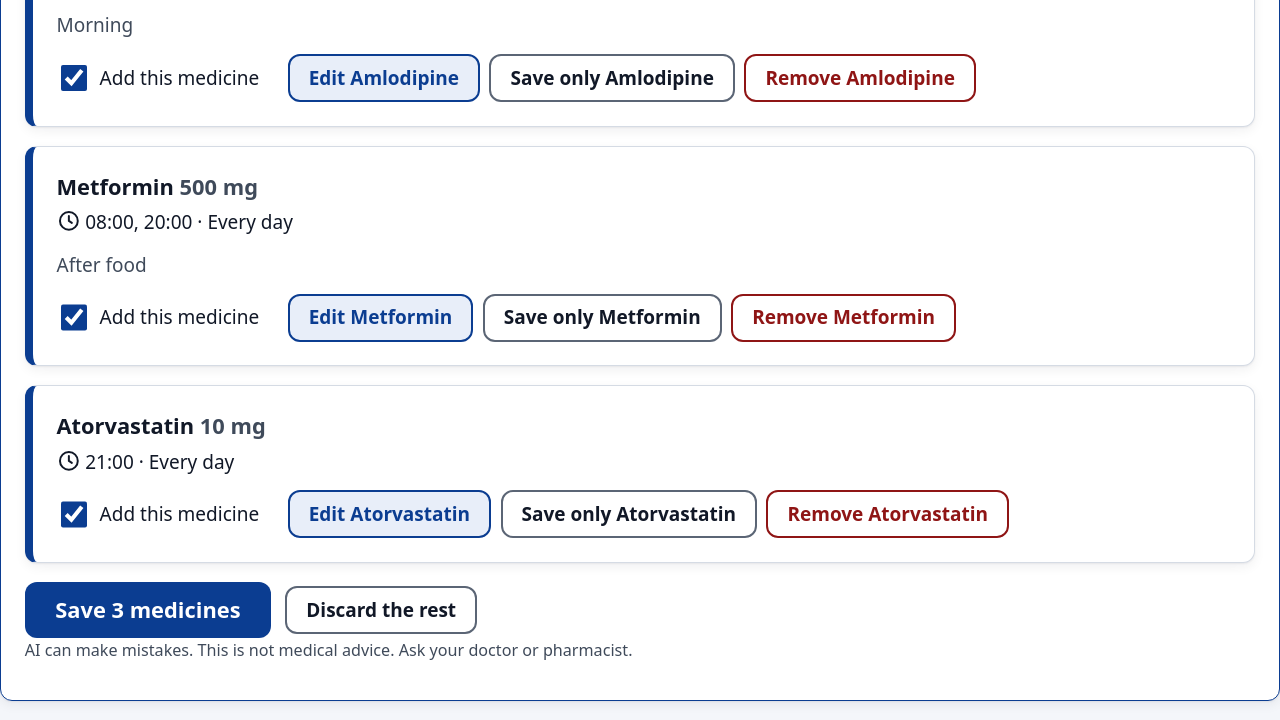
Scenario: prescription scan review (bug: other drafts were lost after saving one) › a failed save shows Retry for that medicine; the others stay saved; Retry saves it
Earlier steps of the test are not shown.
Later steps or results of the test are not shown.
(page scrolled)
Click the button "Save 3 medicines": {"x": 148, "y": 610} x1=25 y1=582 x2=271 y2=638
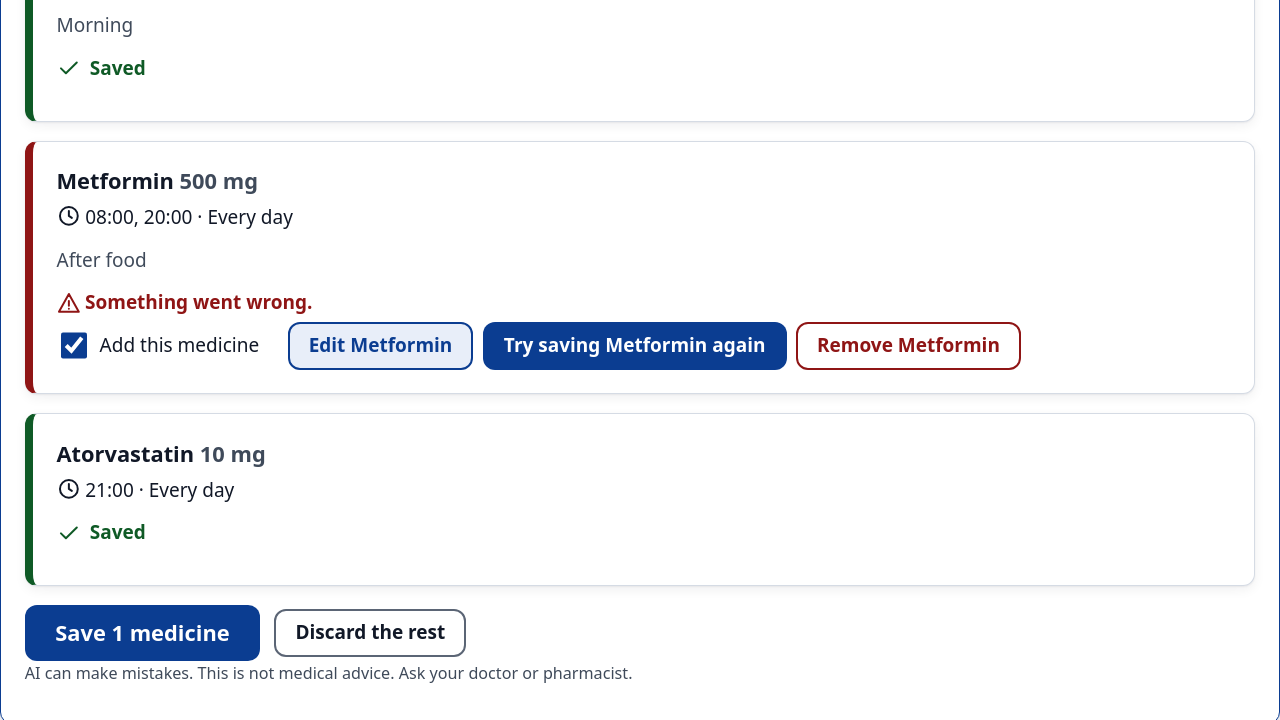
Expected: the button "Discard the rest" is shown, x1=274 y1=609 x2=466 y2=657
Expected: the button "Try saving Metformin again" is shown, x1=483 y1=322 x2=787 y2=370
Expected: the text "Saved" below "Atorvastatin" is shown, x1=90 y1=519 x2=146 y2=545
